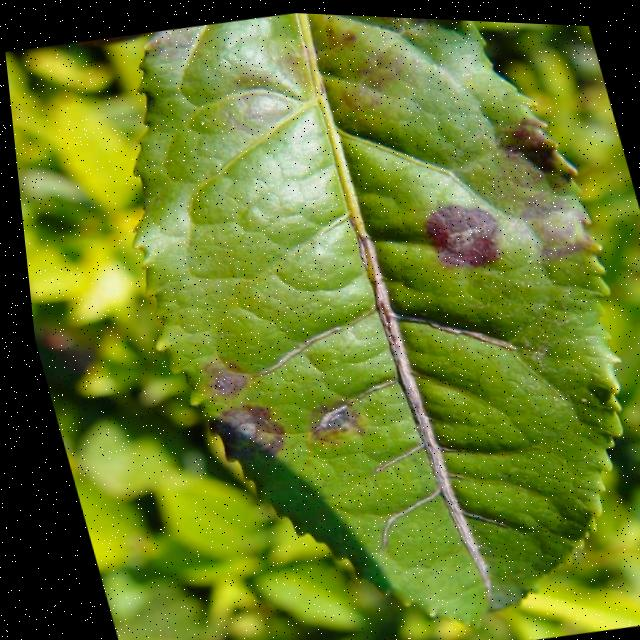Tea cloud leaf blight: (190, 381, 293, 479), (413, 189, 513, 280)
